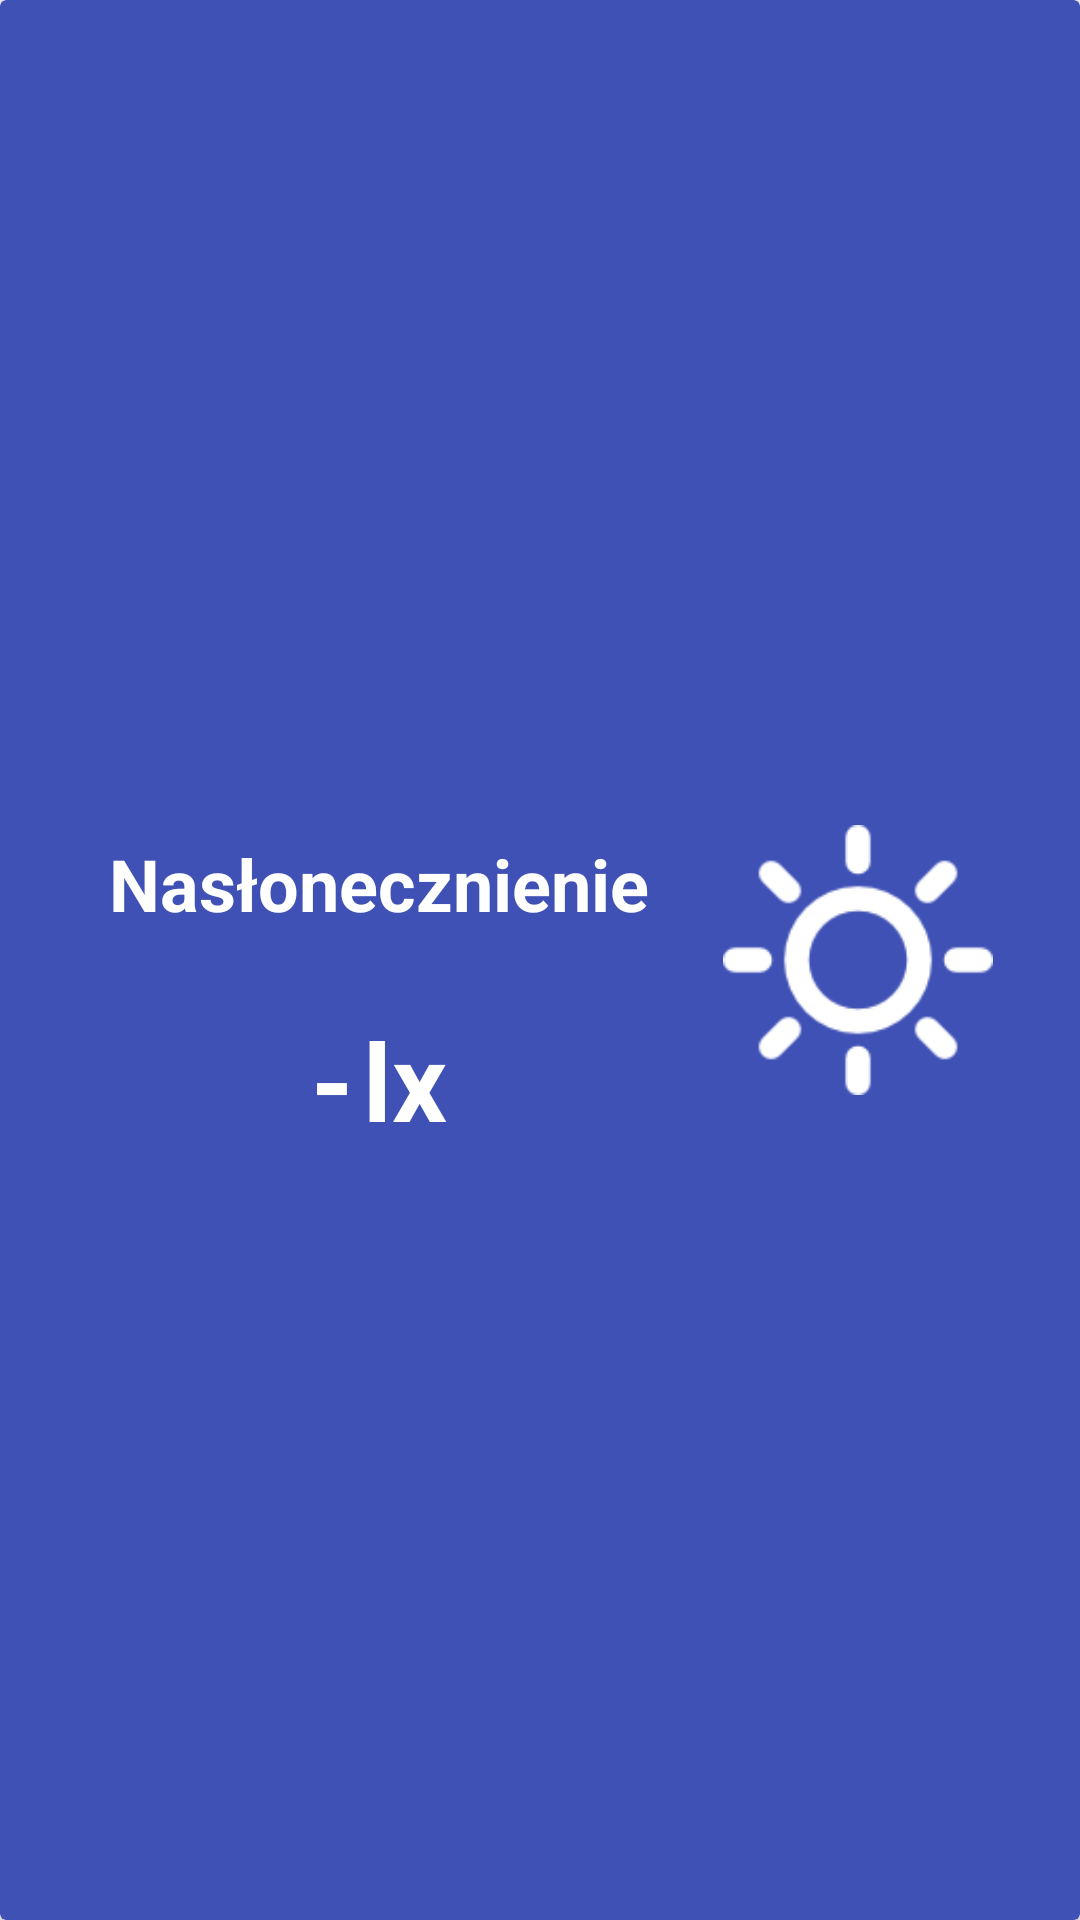

Named icons in this screenshot (1080 × 1920) and their centers, [x,y]:
clear sun: [858,960]
